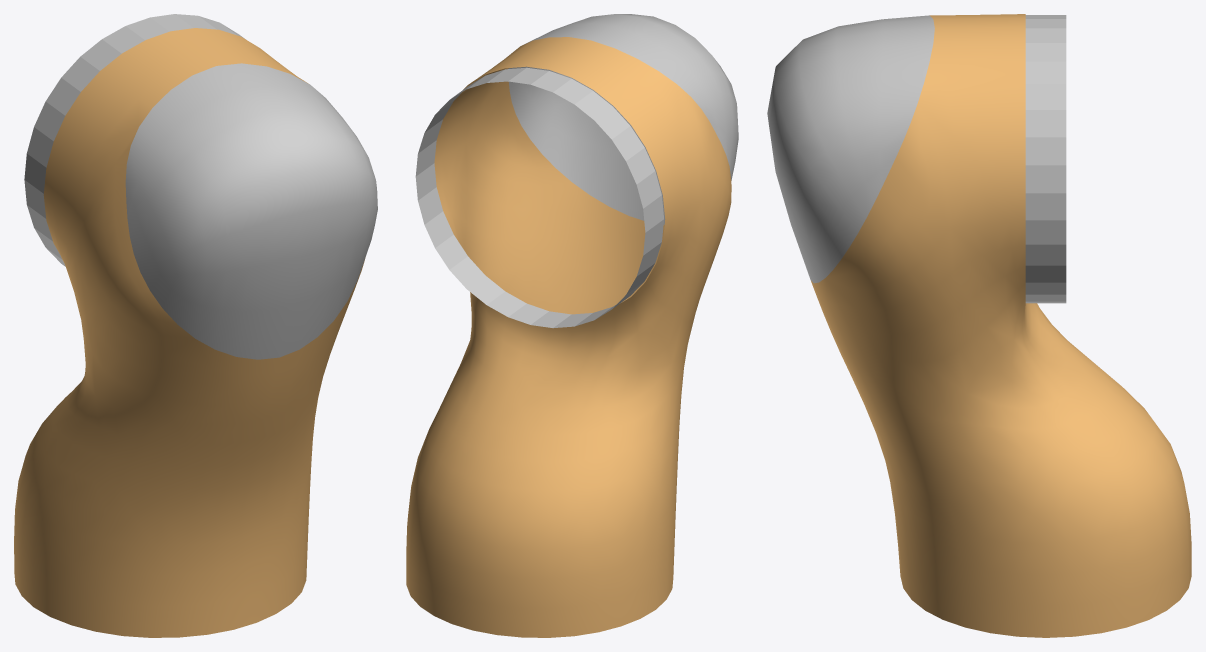
The model's file is arm_segment_a.dae.
3 views of the same model, side by side, from view 1: azimuth 30°, elevation 25°; view 2: azimuth 150°, elevation 25°; view 3: azimuth 270°, elevation 25° (orthographic). The views are drawn at different scales.
Parts seen in each view (by area): view 1: segment; view 2: segment; view 3: segment.
Boxes of the visible parts, x1,y1,x2,y2 form: segment: [14, 14, 377, 637]; segment: [406, 14, 738, 637]; segment: [767, 14, 1191, 637].
Bounding box in the file's own units: 0.124 × 0.1765 × 0.252.
